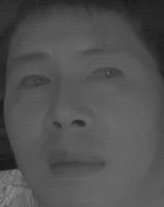eye: (86, 66, 125, 86), (18, 73, 52, 94)
mouth: (44, 143, 108, 182)
